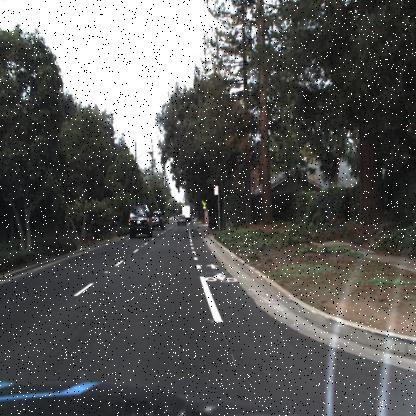car: (128, 203, 152, 239), (152, 207, 164, 231), (180, 204, 191, 220), (177, 213, 188, 227)
truck: (178, 200, 192, 226)
